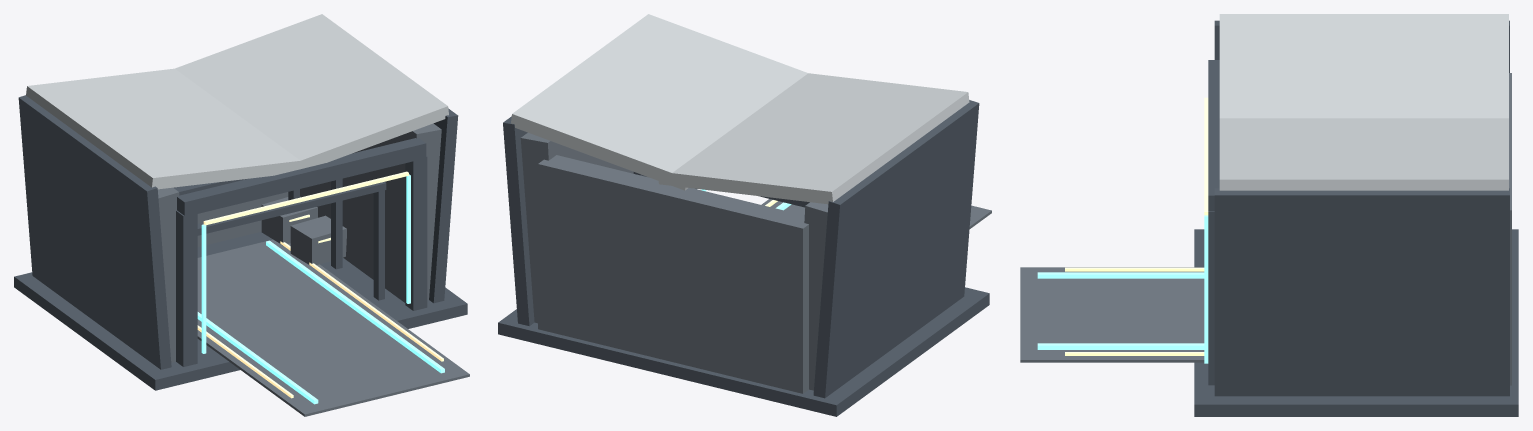
File: expedition-hangar-lod1.90d2fcf4e015.glb
3 renders of one model, left to right at view 1: azimuth 30°, elevation 25°; view 2: azimuth 150°, elevation 25°; view 3: azimuth 270°, elevation 25°, orthographic. The views are drawn at different scales.
Parts seen in each view (by area): view 1: hangar_outer_rib_-1, departure_lane, roof_right, roof_left, hangar_foundation, hangar_side_wall_1, launch_header, launch_frame_-1, hangar_outer_rib_1, launch_frame_1, hangar_side_wall_-1, cargo_pod_3 (+12 smaller); view 2: hangar_back, hangar_outer_rib_-1, roof_right, roof_left, hangar_foundation, hangar_outer_rib_1, hangar_side_wall_1, hangar_side_wall_-1, departure_lane; view 3: hangar_outer_rib_1, roof_left, roof_right, departure_lane, hangar_foundation, launch_header, launch_frame_1, departure_rail_-1, departure_rail_1, launch_light_side_1, hangar_back, departure_warning_-1 (+2 smaller).
Part boxes in pixels (x1,y1,x2,y2): hangar_outer_rib_-1: [18, 95, 171, 369]; departure_lane: [197, 239, 469, 416]; roof_right: [175, 14, 448, 167]; roof_left: [26, 68, 313, 189]; hangar_foundation: [14, 231, 467, 390]; hangar_side_wall_1: [300, 123, 441, 302]; launch_header: [177, 138, 426, 216]; launch_frame_-1: [176, 210, 197, 366]; hangar_outer_rib_1: [429, 108, 458, 303]; launch_frame_1: [405, 156, 427, 310]; hangar_side_wall_-1: [157, 187, 179, 362]; cargo_pod_3: [290, 215, 346, 265]; hangar_back: [538, 155, 808, 393]; hangar_outer_rib_-1: [813, 100, 979, 398]; roof_right: [511, 14, 807, 190]; roof_left: [657, 73, 969, 204]; hangar_foundation: [498, 287, 989, 416]; hangar_outer_rib_1: [503, 116, 534, 326]; hangar_side_wall_1: [520, 132, 648, 323]; hangar_side_wall_-1: [804, 202, 828, 390]; departure_lane: [761, 199, 991, 228]; hangar_outer_rib_1: [1214, 188, 1509, 396]; roof_left: [1219, 14, 1508, 118]; roof_right: [1219, 118, 1508, 190]; departure_lane: [1020, 267, 1204, 362]; hangar_foundation: [1194, 229, 1518, 416]; launch_header: [1208, 60, 1219, 211]; launch_frame_1: [1208, 211, 1214, 385]; departure_rail_-1: [1037, 272, 1204, 278]; departure_rail_1: [1037, 343, 1204, 349]; launch_light_side_1: [1204, 215, 1208, 363]; hangar_back: [1509, 73, 1511, 385]; departure_warning_-1: [1065, 267, 1204, 271].
Size of the model in its own units: 10.6 by 6.56 by 12.75.
